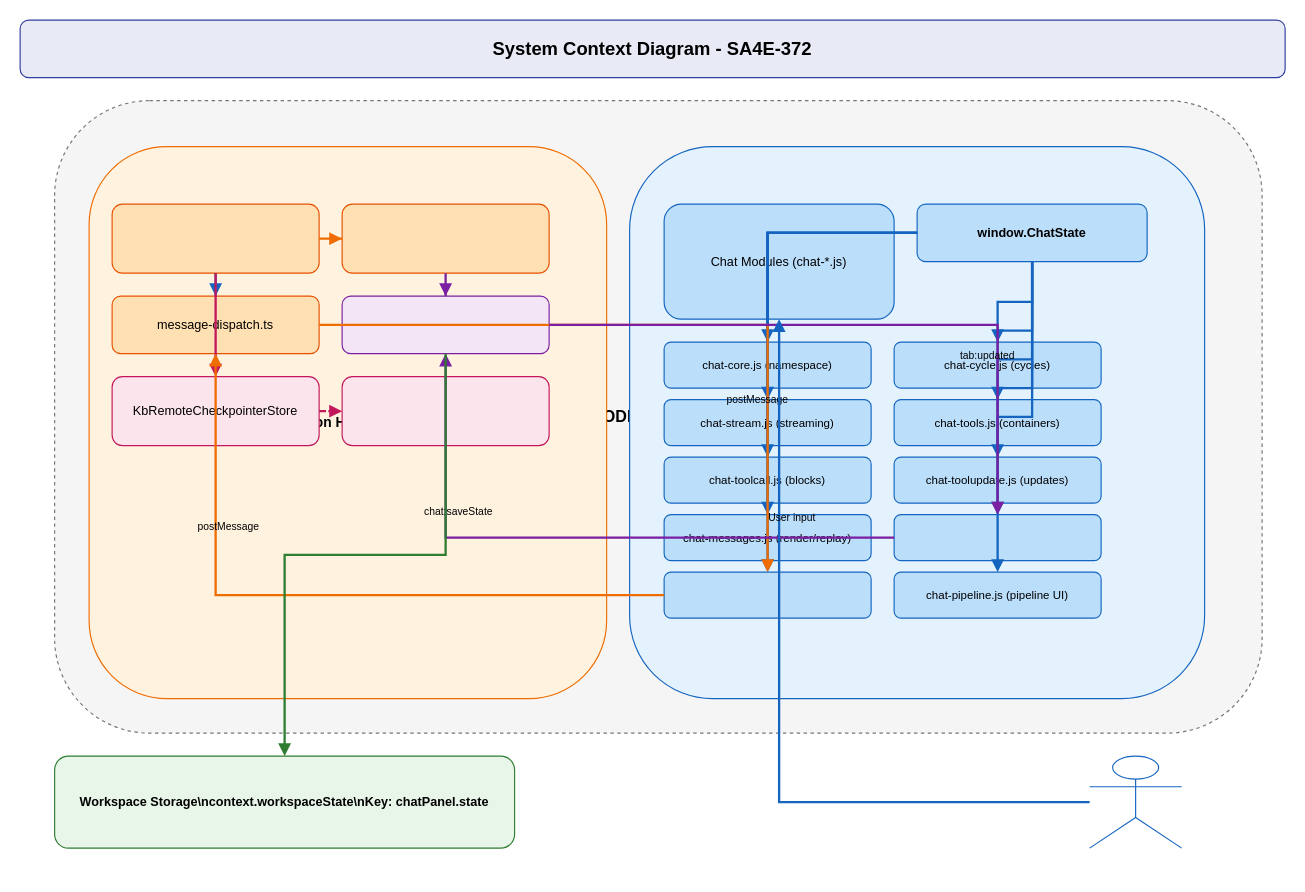
Image size: 1305x892. Some labels were removed from this diagram. The box of each missing label's shape, as (x1, y1, x2, y2) in pixels:
Chat Panel Webview: (628, 145, 1205, 699)
chat-inbox.js (dispatch): (663, 571, 871, 618)
chat-tabsync.js (persist): (893, 513, 1101, 561)
ChatPanelProvider: (111, 203, 319, 273)
ChatStateManager: (341, 203, 549, 273)
Developer: (1088, 755, 1182, 848)
Python MCP Server: (341, 375, 549, 446)
workspaceState API: (341, 295, 549, 354)
